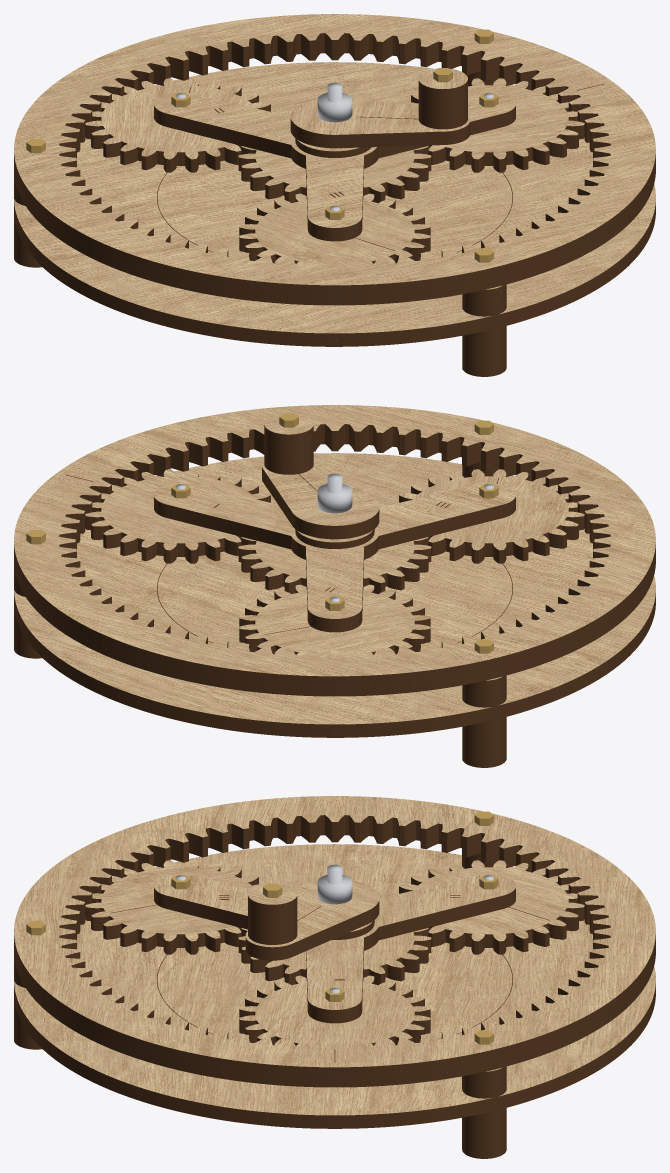
The model's file is orbit.glb.
3 views of the same model, one above another, from view 1: azimuth 30°, elevation 25°; view 2: azimuth 150°, elevation 25°; view 3: azimuth 270°, elevation 25° (orthographic).
Visible parts, largest first — view 1: body10, body12, body49, body7, body9, body5, body8, body3, body60, body11, body1, body48 (+7 smaller); view 2: body10, body12, body49, body5, body9, body3, body7, body8, body11, body1, body60, body48 (+7 smaller); view 3: body12, body10, body49, body3, body9, body5, body8, body7, body11, body60, body1, body48 (+6 smaller).
Boxes of the visible parts, <box> form: body10: <box>14,14,655,291</box>; body12: <box>14,62,655,340</box>; body49: <box>154,92,515,234</box>; body7: <box>239,193,430,266</box>; body9: <box>14,40,655,298</box>; body5: <box>85,78,275,165</box>; body8: <box>14,46,655,305</box>; body3: <box>400,78,584,165</box>; body60: <box>290,98,470,141</box>; body11: <box>14,208,655,346</box>; body1: <box>238,146,431,198</box>; body48: <box>154,112,515,241</box>; body10: <box>14,405,655,682</box>; body12: <box>14,453,655,731</box>; body49: <box>154,483,515,625</box>; body5: <box>239,584,430,657</box>; body9: <box>14,431,655,689</box>; body3: <box>85,469,275,556</box>; body7: <box>394,469,584,556</box>; body8: <box>14,437,655,696</box>; body11: <box>14,599,655,737</box>; body1: <box>238,537,431,589</box>; body60: <box>262,460,379,532</box>; body48: <box>154,503,515,632</box>; body12: <box>14,844,655,1122</box>; body10: <box>14,796,655,1073</box>; body49: <box>154,874,515,1016</box>; body3: <box>239,975,430,1048</box>; body9: <box>14,822,655,1080</box>; body5: <box>394,860,584,947</box>; body8: <box>14,828,655,1087</box>; body7: <box>85,860,263,947</box>; body11: <box>14,990,655,1128</box>; body60: <box>245,881,379,953</box>; body1: <box>238,928,431,980</box>; body48: <box>154,894,515,1023</box>.
Bounding box in the file's own units: 0.26 × 0.0852 × 0.26.
Materials: 5 (1 with a texture image).
